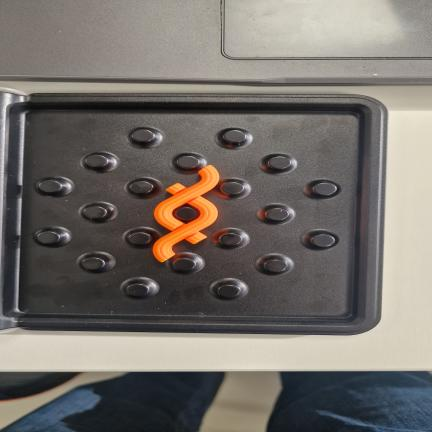I_Orange: (153, 166, 219, 262)
board: (0, 93, 387, 334)
hinge: (0, 91, 30, 335)
pin: (38, 179, 62, 194), (312, 182, 337, 196), (81, 257, 106, 271), (174, 206, 197, 221), (267, 156, 291, 170), (85, 154, 109, 168), (311, 234, 335, 248), (264, 259, 288, 273), (126, 283, 150, 297), (217, 284, 241, 298), (223, 129, 246, 143), (176, 155, 199, 169), (220, 182, 244, 195), (265, 208, 289, 221), (83, 206, 107, 219), (128, 232, 152, 245), (132, 129, 155, 142), (130, 181, 153, 194), (37, 231, 60, 244), (219, 233, 242, 246), (173, 258, 196, 271)
